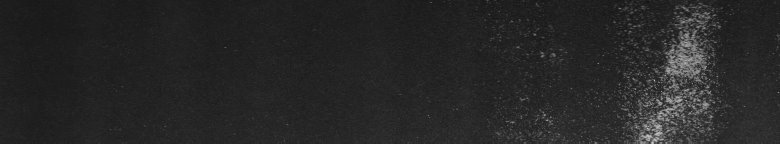kb: (624, 4, 712, 136)
